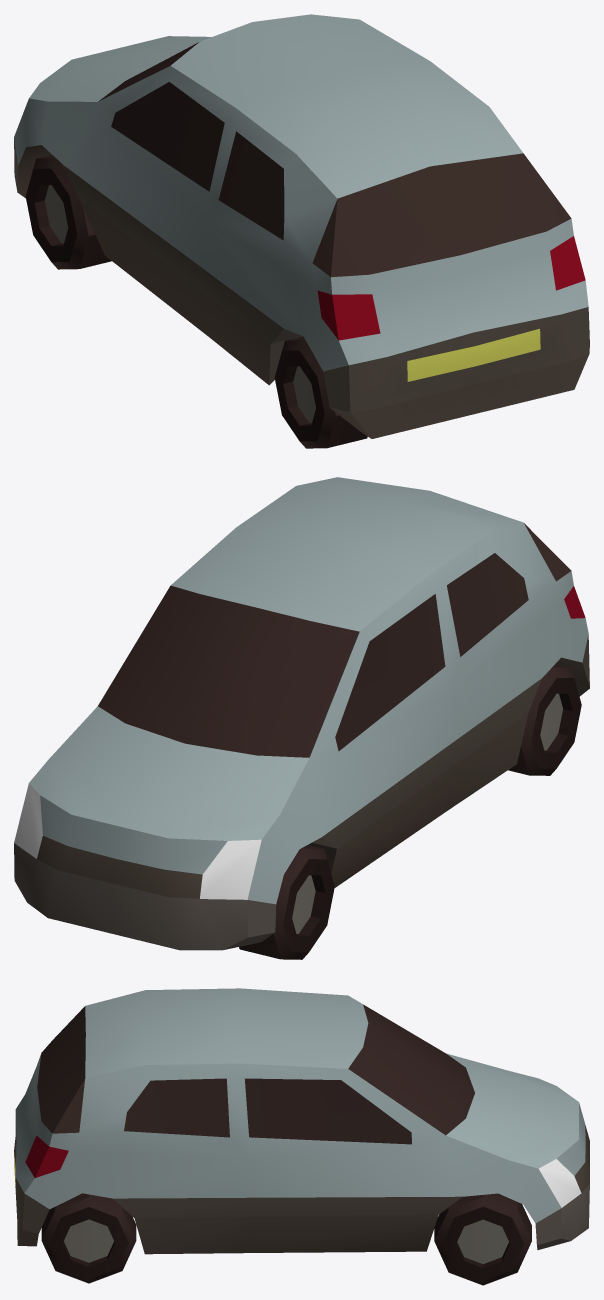
Rendered from carModel12.obj.
3 renders of one model, top to bottom at view 1: azimuth 30°, elevation 25°; view 2: azimuth 150°, elevation 25°; view 3: azimuth 270°, elevation 25°, orthographic. The views are drawn at different scales.
Parts seen in each view (by area): view 1: Car_Carrosserie, Car_Base; view 2: Car_Carrosserie, Car_Base; view 3: Car_Carrosserie, Car_Base.
Boxes of the visible parts, bbox=[...] form: Car_Carrosserie: bbox=[14, 14, 588, 371]; Car_Base: bbox=[14, 42, 589, 448]; Car_Carrosserie: bbox=[29, 477, 588, 904]; Car_Base: bbox=[14, 523, 589, 959]; Car_Carrosserie: bbox=[15, 988, 585, 1223]; Car_Base: bbox=[14, 1004, 589, 1285].
Size of the model in its own units: 1.94 by 1.98 by 4.67.
3 materials, 3 textured.
